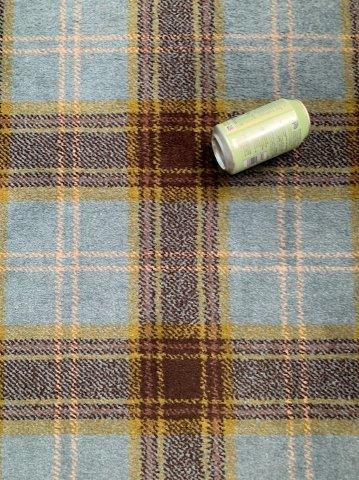kaleng: (212, 99, 311, 175)
